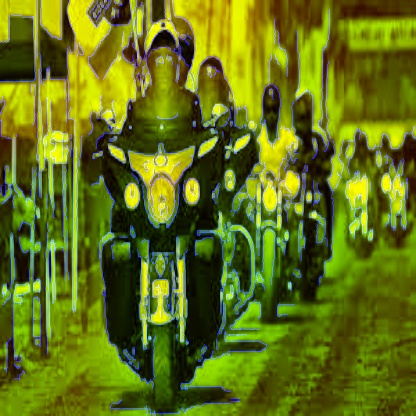bike: (96, 102, 241, 396)
